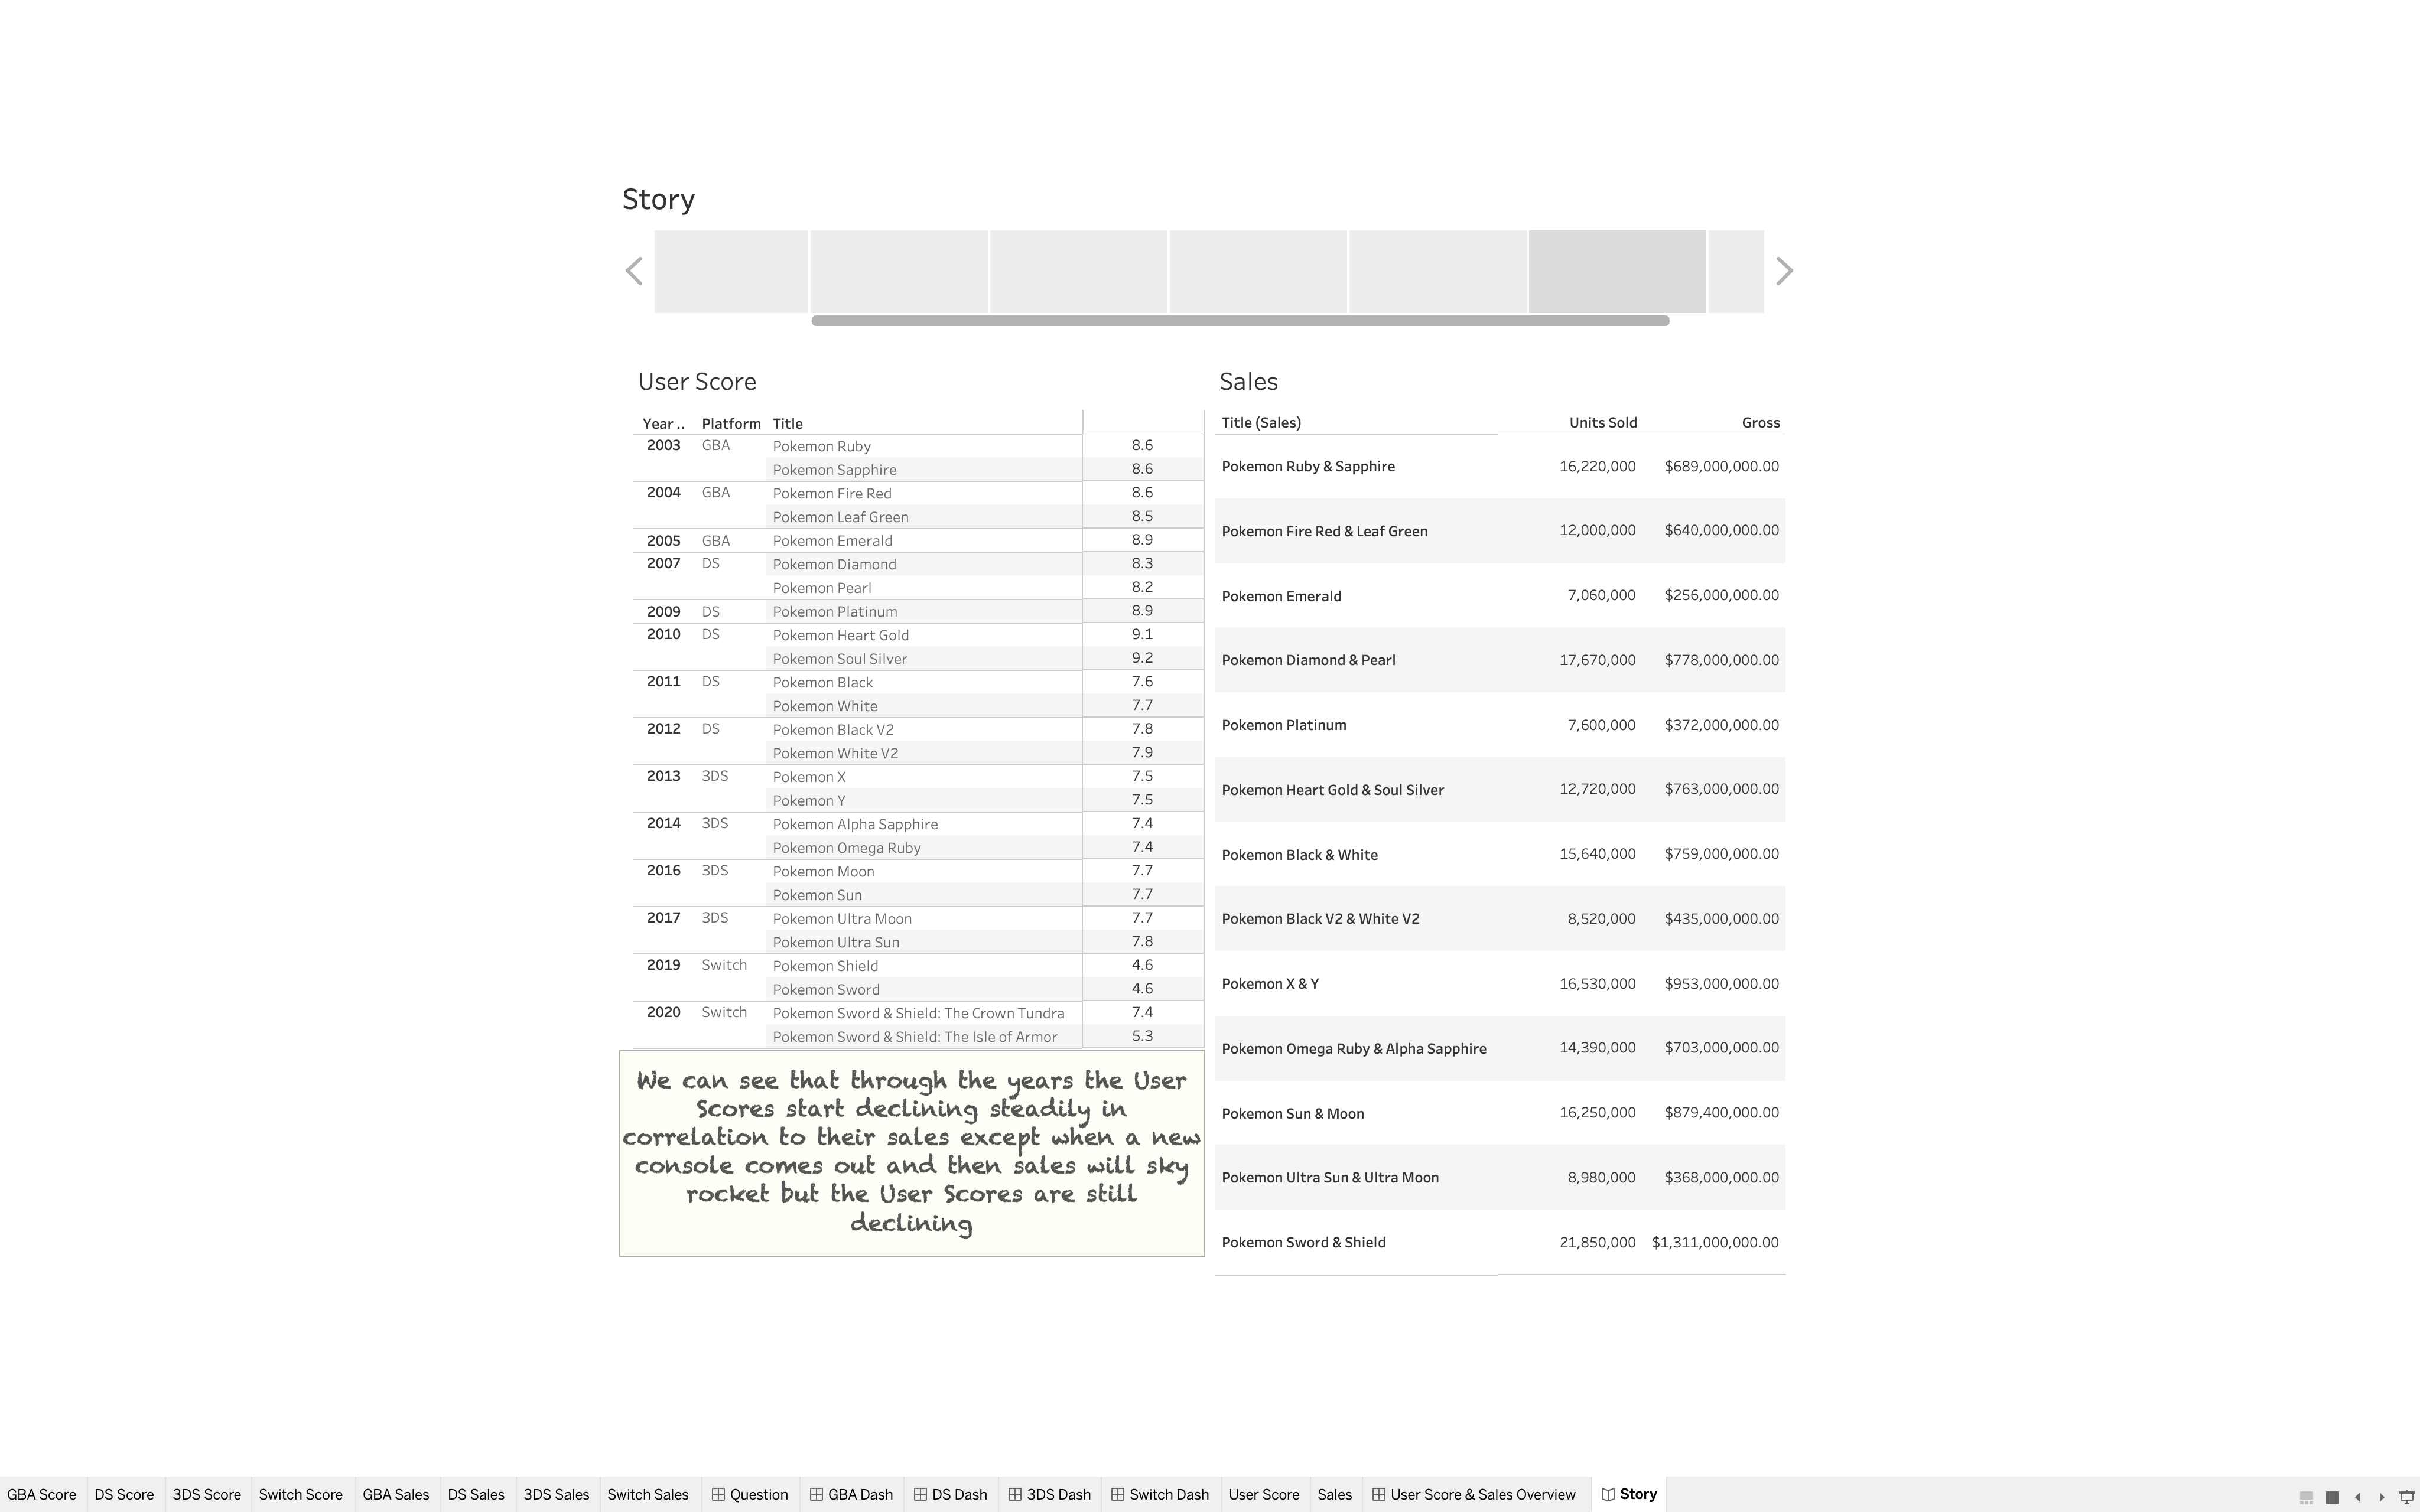

This screenshot's page, from the dashboard's own definition file:
{"tool":"tableau","page":{"name":"User Score & Sales Overview","canvas":[1000,800],"ordinal":5},"visuals":[{"type":"worksheet","title":"User Score","mark":"Automatic","rows":["Date","Platform","Title"],"box":[8,8,492,784]},{"type":"worksheet","title":"Sales","mark":"Automatic","rows":["Title (Sales)"],"box":[500,8,492,784]}]}

Visuals, with their boxes on the page's 1000x800 design canvas (x1, y1, x2, y2). These are canvas units, not pixel positions in the 2420x1512 screenshot, which may show the page scaled, cropped or inside an application window:
"User Score" worksheet: x1=8, y1=8, x2=500, y2=792
"Sales" worksheet: x1=500, y1=8, x2=992, y2=792
